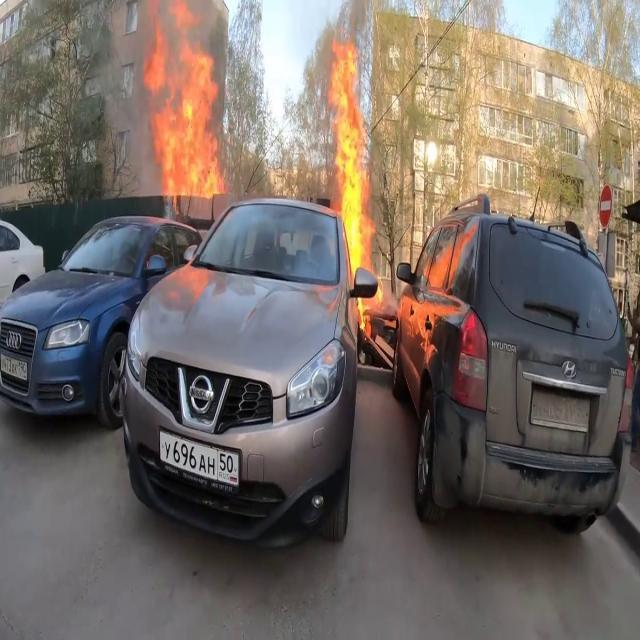Fire: (139, 8, 229, 201), (326, 35, 380, 337)
